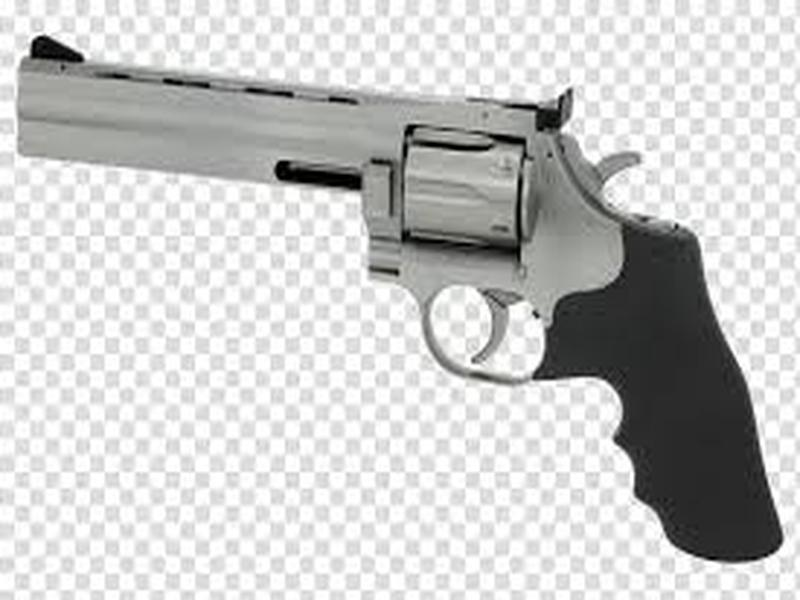gun: (10, 27, 791, 564)
